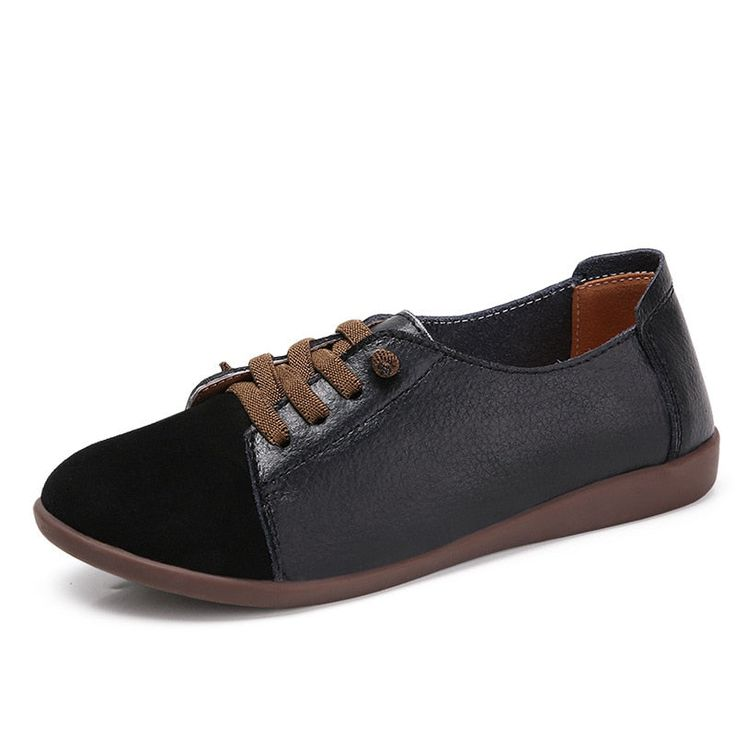gamuza: (48, 390, 280, 583)
